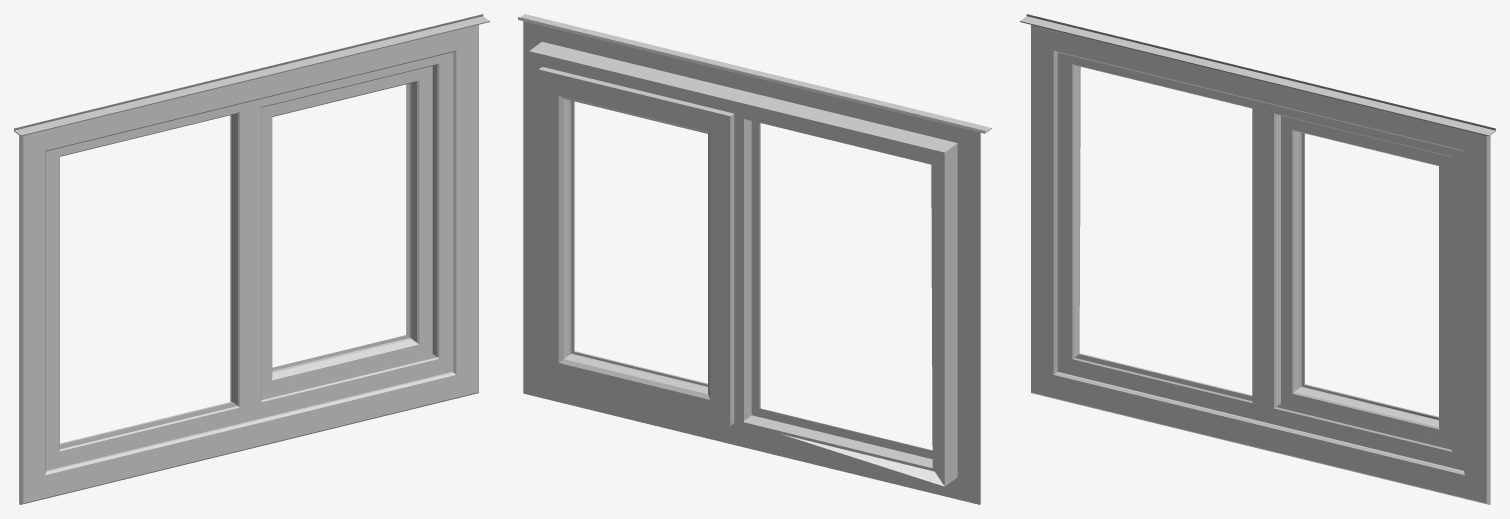
The model's file is janela.glb.
The picture shows the model from 3 angles, left to right: view 1: azimuth 30°, elevation 25°; view 2: azimuth 150°, elevation 25°; view 3: azimuth 330°, elevation 25°; orthographic projection.
Visible parts, largest first — view 1: Janela; view 2: Janela; view 3: Janela.
Boxes of the visible parts, x1,y1,x2,y2 form: Janela: (14, 14, 489, 504); Janela: (518, 14, 991, 504); Janela: (1020, 14, 1495, 504).
Bounding box in the file's own units: 1.44 × 1.11 × 0.1264.
5 materials, 1 textured.
